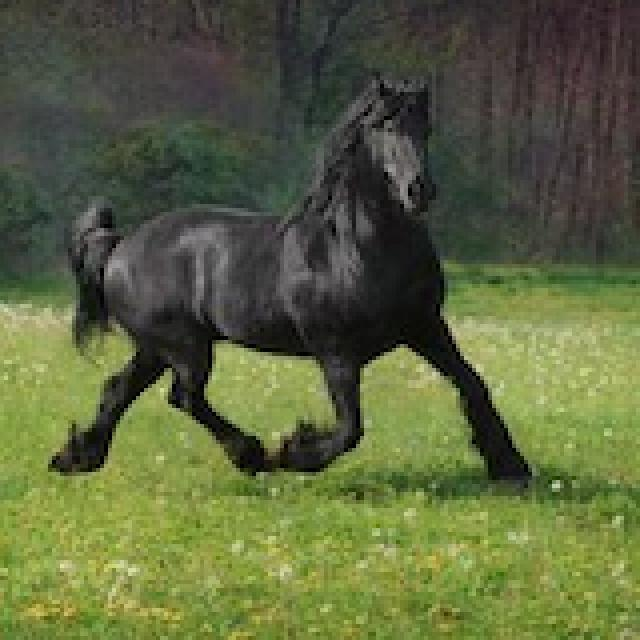Horse: (40, 64, 540, 496)
